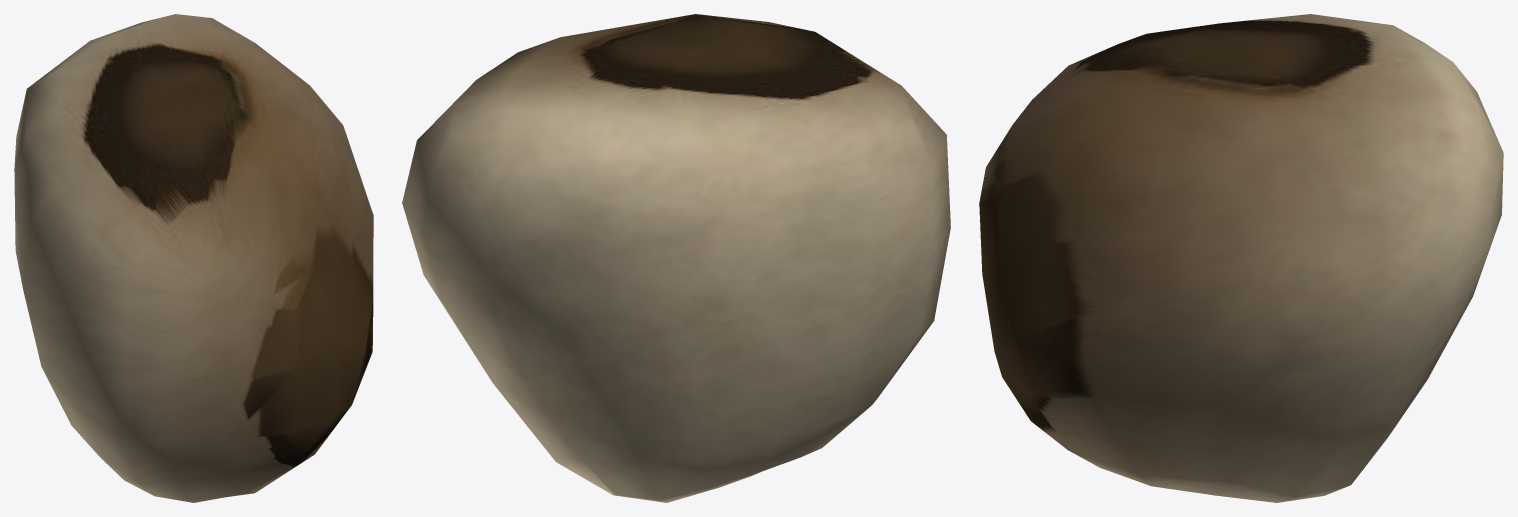
Rendered from Metatarsal_I.glb.
The picture shows the model from 3 angles, left to right: view 1: azimuth 30°, elevation 25°; view 2: azimuth 150°, elevation 25°; view 3: azimuth 270°, elevation 25°; orthographic projection. The views are drawn at different scales.
Visible parts, largest first — view 1: Metatarsal_I_Left1:Group62671; view 2: Metatarsal_I_Left1:Group62671; view 3: Metatarsal_I_Left1:Group62671.
Boxes of the visible parts, x1,y1,x2,y2 form: Metatarsal_I_Left1:Group62671: (14, 14, 373, 502); Metatarsal_I_Left1:Group62671: (402, 14, 950, 502); Metatarsal_I_Left1:Group62671: (979, 14, 1503, 502).
Size of the model in its own units: 4.73 by 4.95 by 5.35.
1 material, 1 textured.
